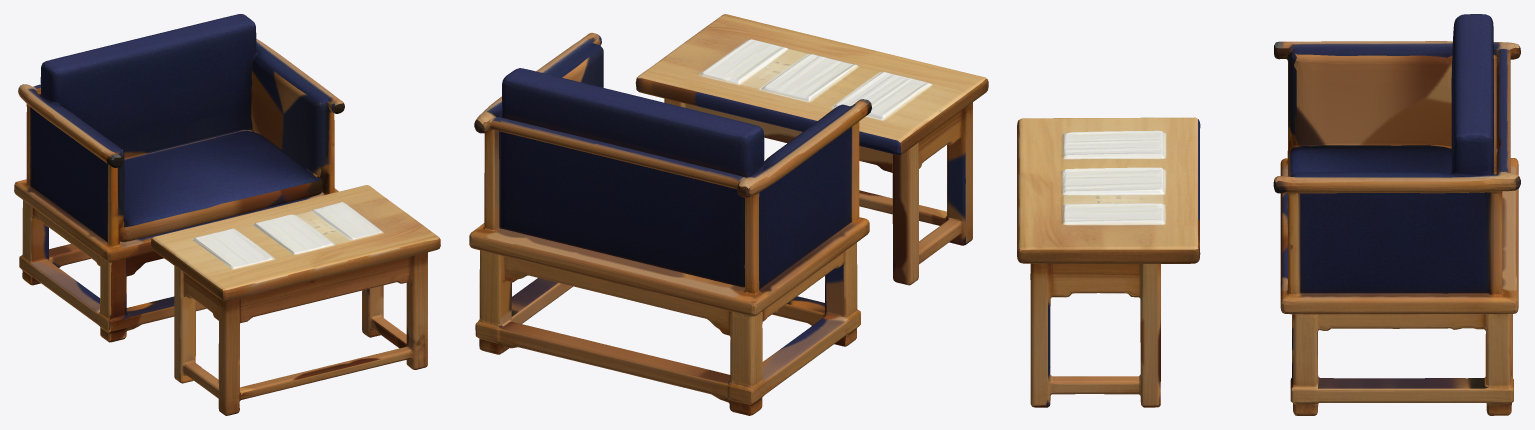
The model's file is traveler_env_coast_ojatara_tribunal_seat_00001_.glb.
3 views of the same model, side by side, from view 1: azimuth 30°, elevation 25°; view 2: azimuth 150°, elevation 25°; view 3: azimuth 270°, elevation 25° (orthographic). The views are drawn at different scales.
Visible parts, largest first — view 1: temp_mesh.ply; view 2: temp_mesh.ply; view 3: temp_mesh.ply.
Part boxes in pixels (bbox=[...]): temp_mesh.ply: bbox=[14, 14, 440, 415]; temp_mesh.ply: bbox=[469, 14, 988, 415]; temp_mesh.ply: bbox=[1017, 14, 1520, 415].
Bounding box in the file's own units: 1.33 × 1.19 × 1.97.
1 material, 1 textured.
